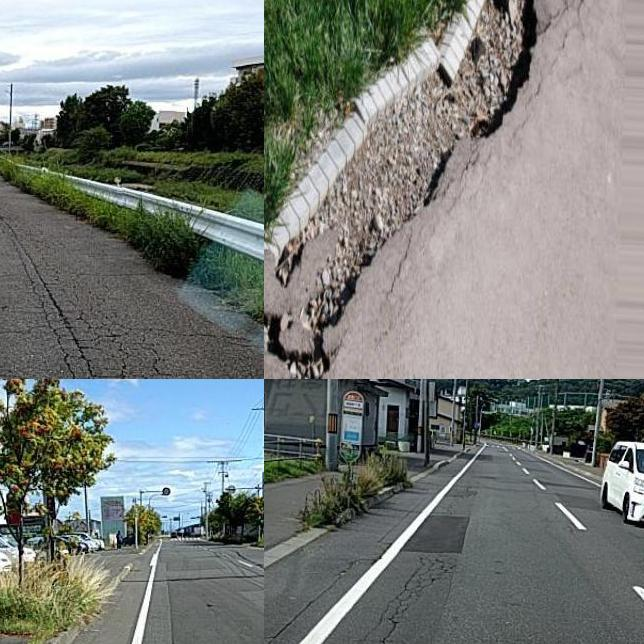Pinggir: (264, 0, 544, 379)
Sambungan: (393, 511, 471, 556)
